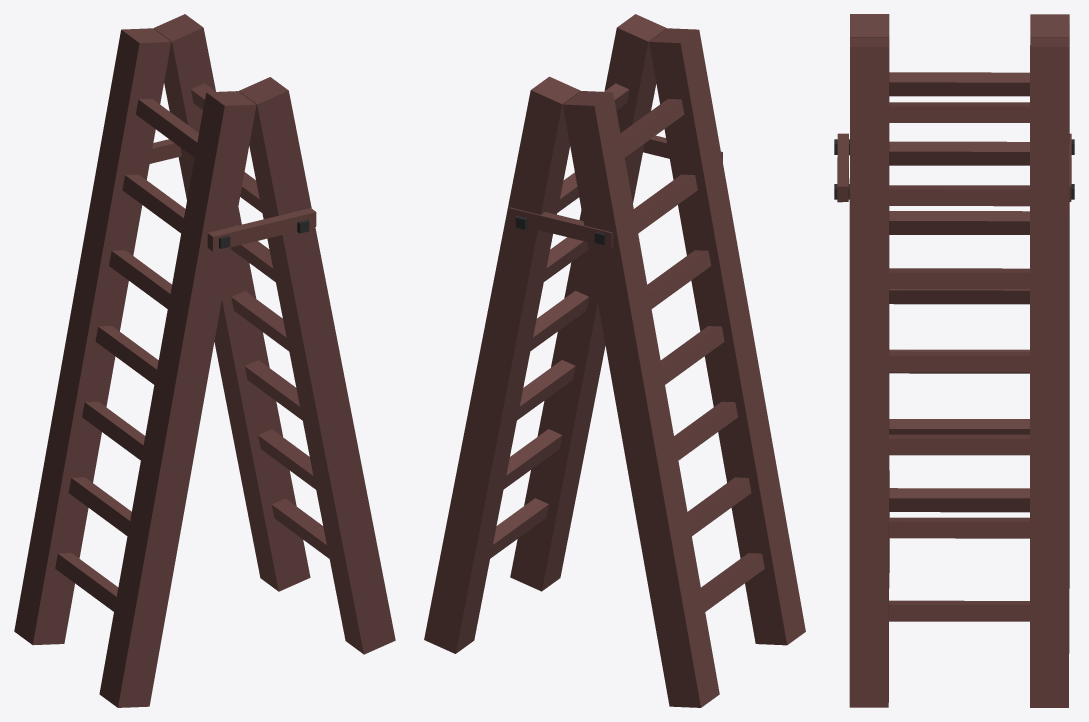
File: stepladder.fbx
3 views of the same model, side by side, from view 1: azimuth 30°, elevation 25°; view 2: azimuth 150°, elevation 25°; view 3: azimuth 270°, elevation 25° (orthographic). The views are drawn at different scales.
Visible parts, largest first — view 1: Cube.005; view 2: Cube.005; view 3: Cube.005.
Part boxes in pixels (x1=…): Cube.005: x1=14, y1=14, x2=395, y2=707; Cube.005: x1=424, y1=14, x2=805, y2=707; Cube.005: x1=834, y1=14, x2=1074, y2=707.
Bounding box in the file's own units: 66.42 × 133 × 47.2.
